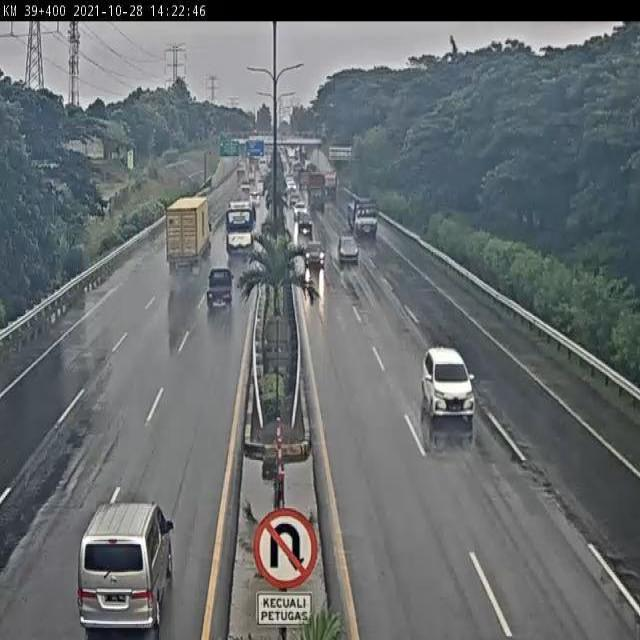ARABA: (422, 346, 478, 426), (207, 265, 237, 307), (303, 237, 326, 271)
OTOBUS: (224, 198, 258, 254)
TIR: (164, 194, 210, 270)
